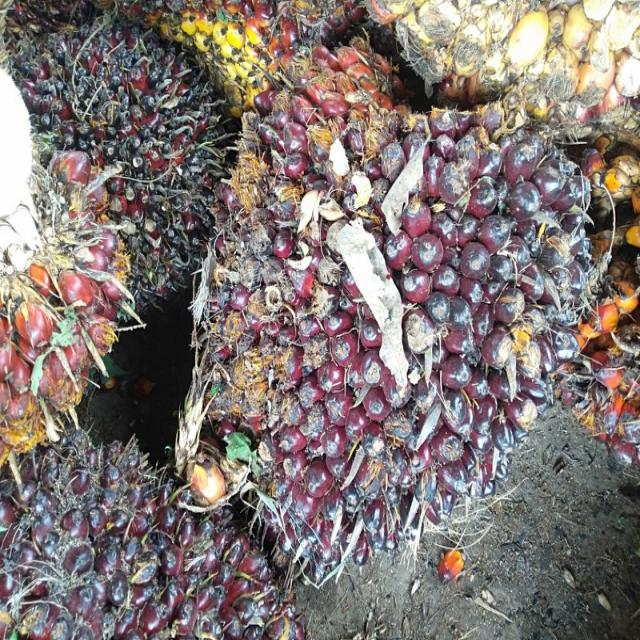fraksi 1: (210, 87, 605, 539)
